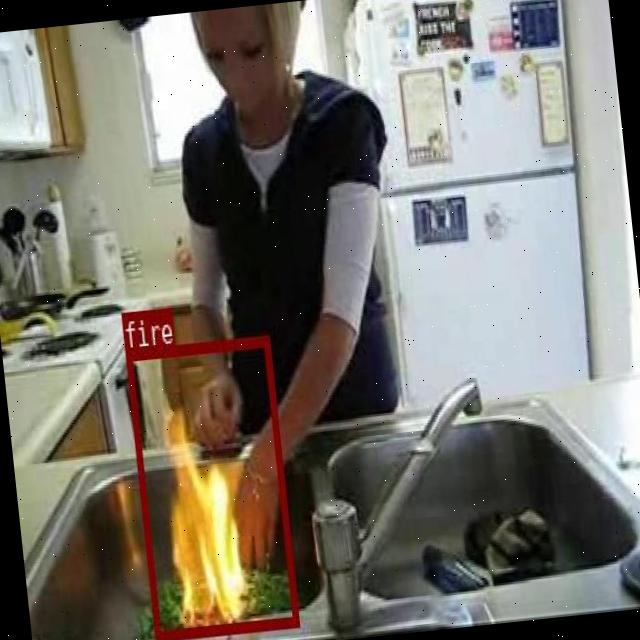fire: (124, 335, 298, 639)
